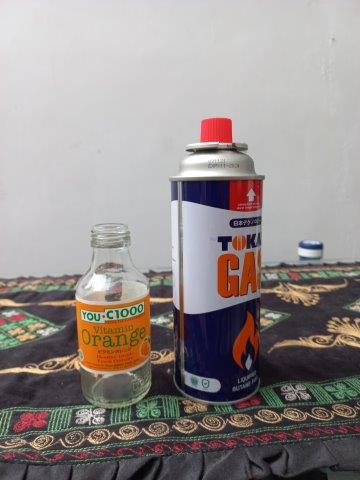botolkaca: (74, 224, 152, 409)
kaleng: (169, 118, 262, 402)
